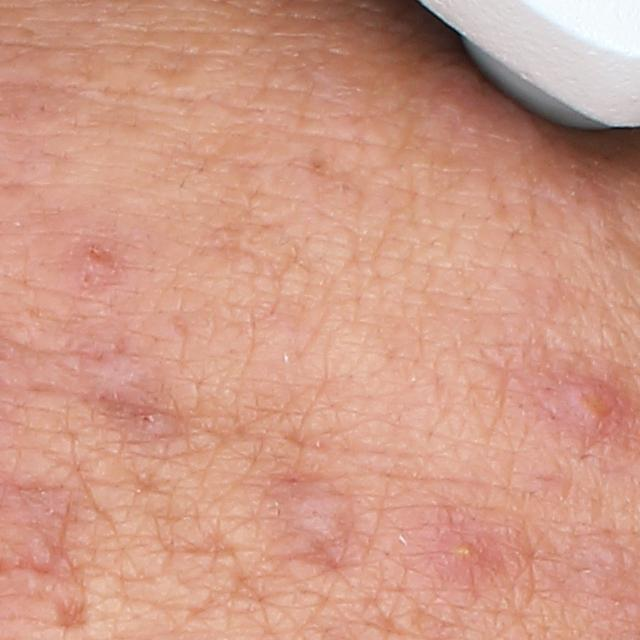atrophic_scar: (53, 593, 91, 630)
